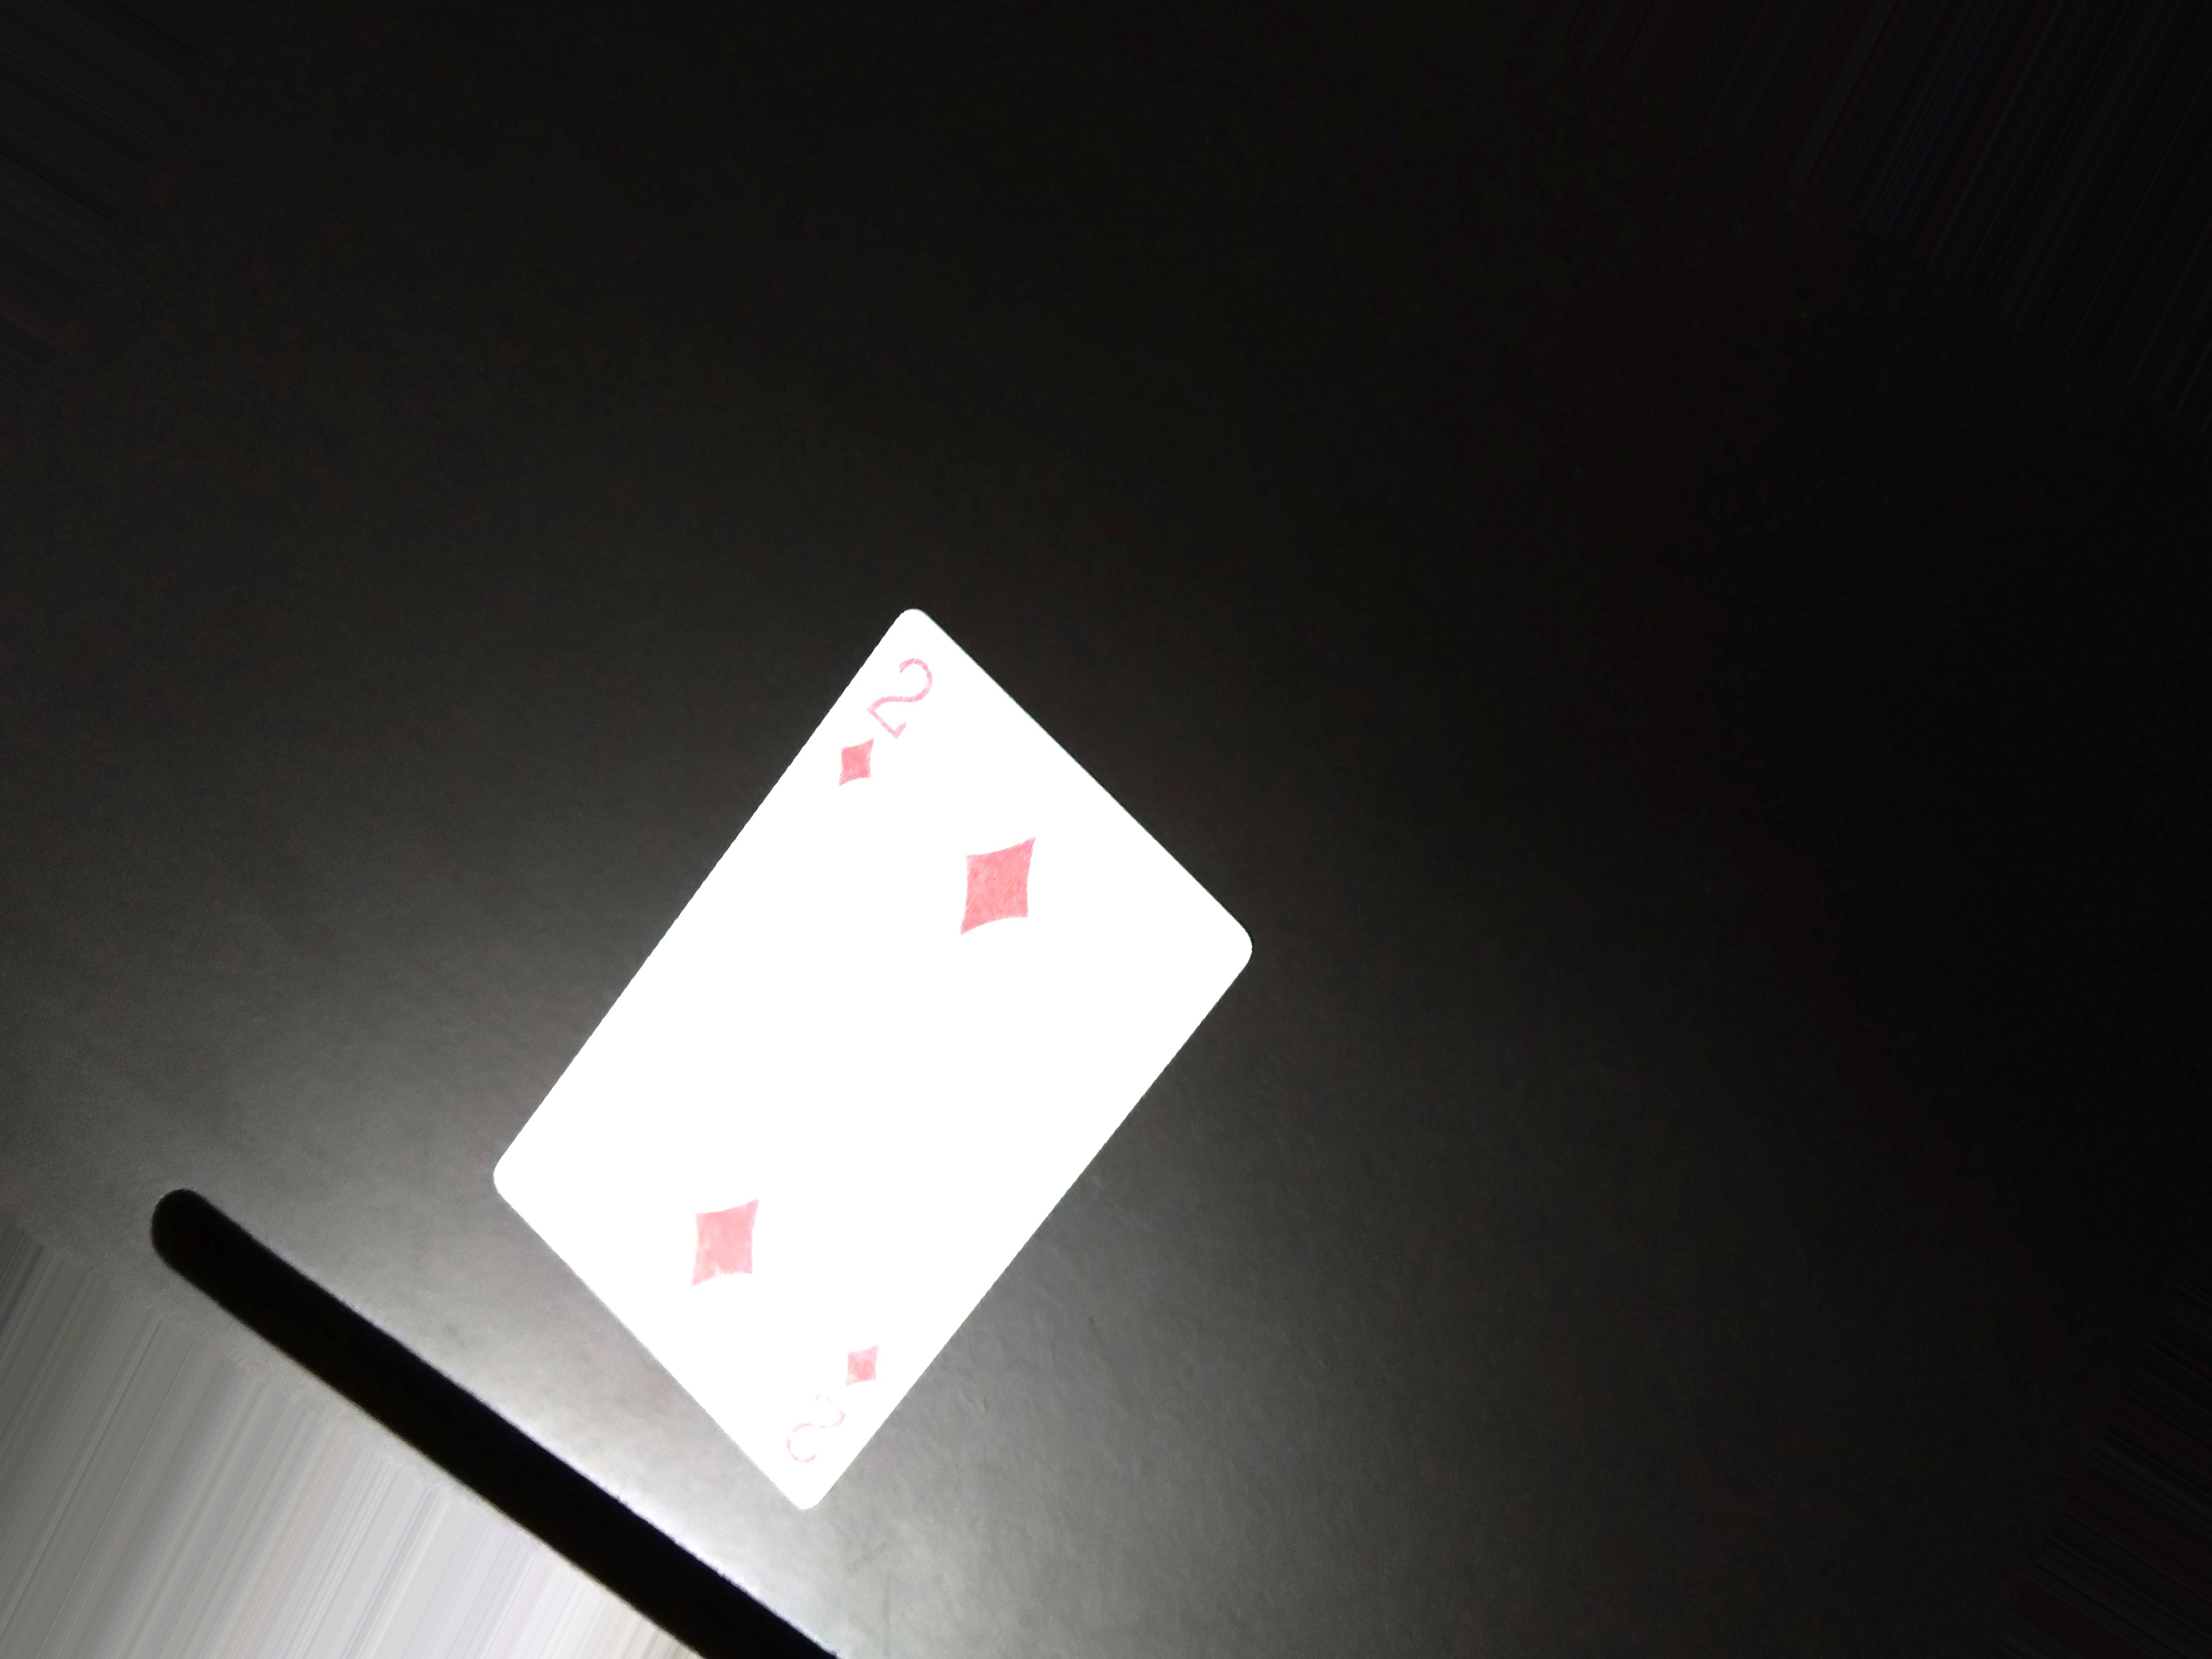2D: (824, 640, 953, 800)
